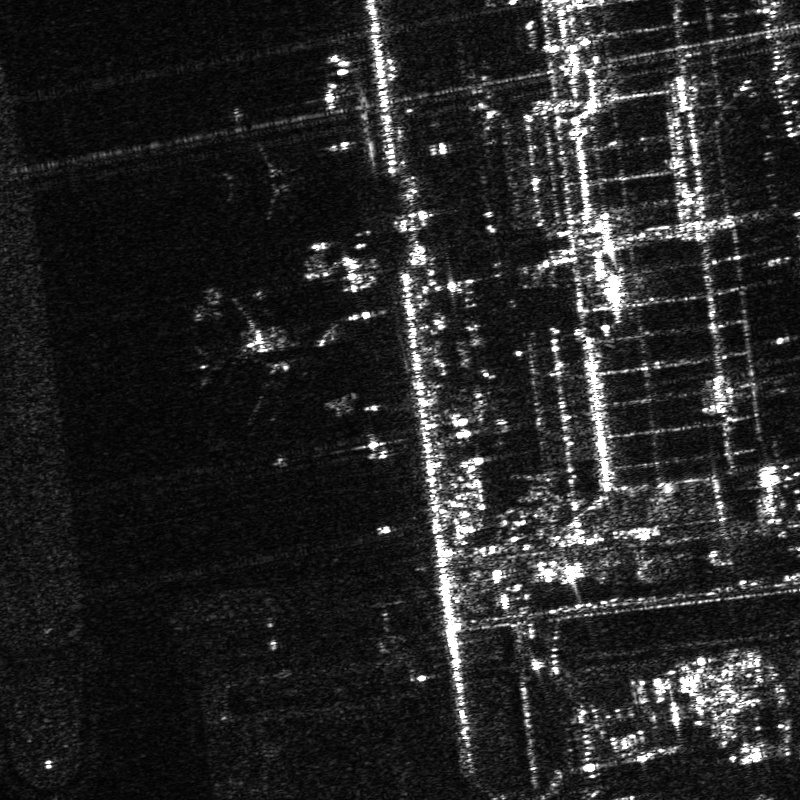Boeing787: (196, 298, 306, 421), (215, 139, 303, 222)
